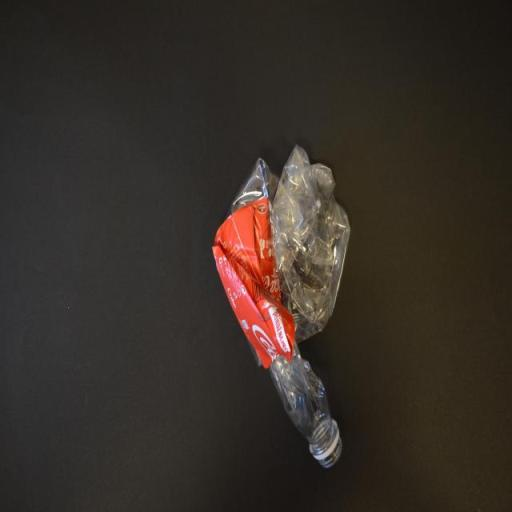plastic: (212, 143, 351, 470)
